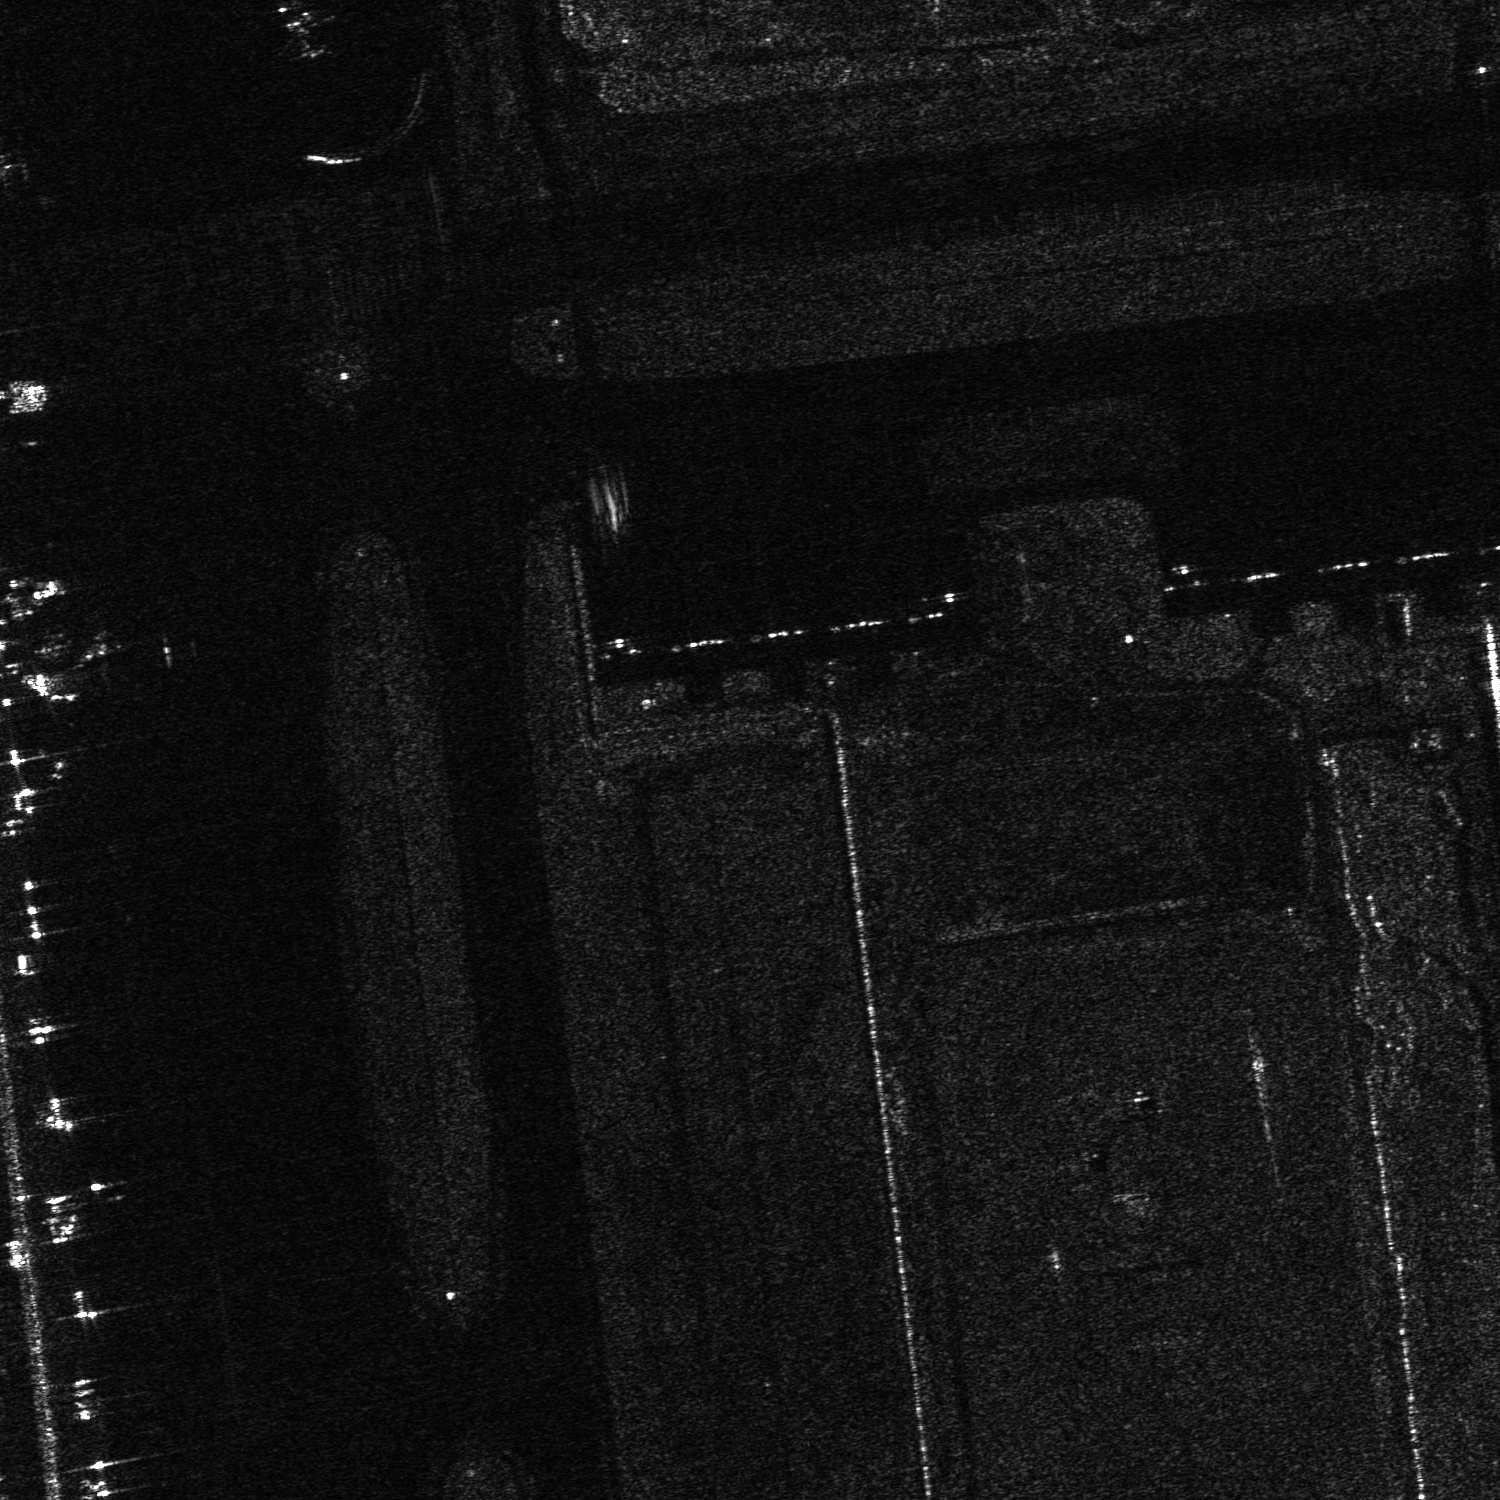A220: (268, 3, 337, 60)
